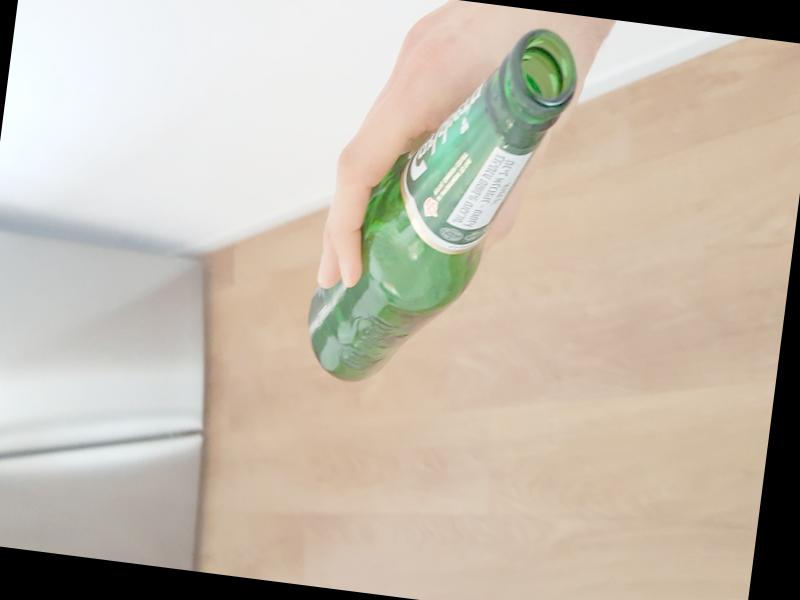Beer: (302, 3, 584, 405)
